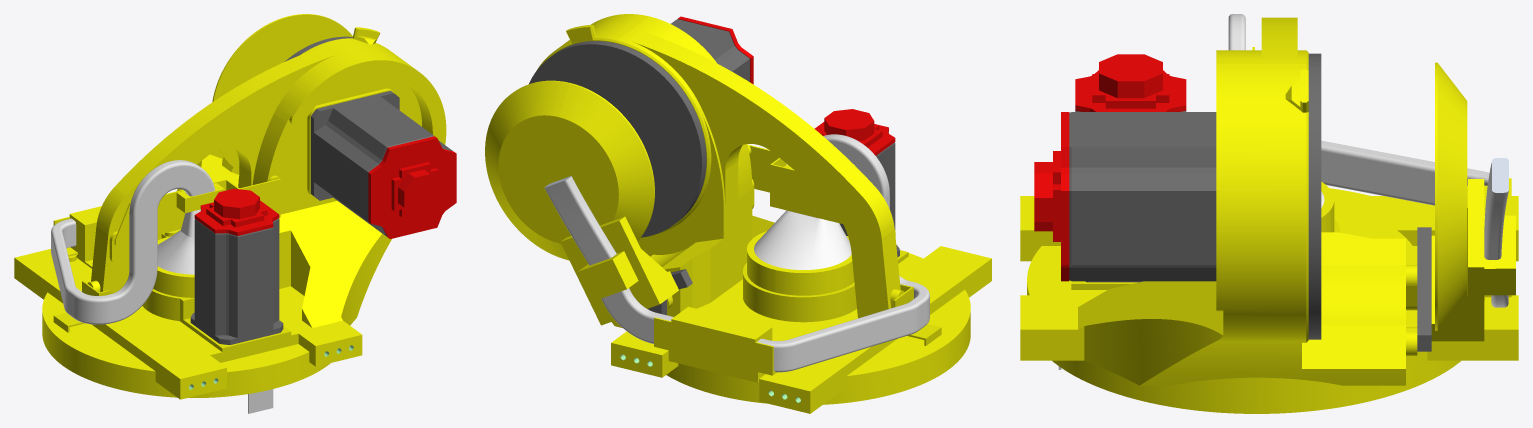
3 views of the same model, side by side, from view 1: azimuth 30°, elevation 25°; view 2: azimuth 150°, elevation 25°; view 3: azimuth 270°, elevation 25° (orthographic). The views are drawn at different scales.
Visible parts, largest first — view 1: Mesh_0; view 2: Mesh_0; view 3: Mesh_0.
Part boxes in pixels (x1,y1,x2,y2): Mesh_0: (14, 14, 456, 413); Mesh_0: (485, 14, 991, 413); Mesh_0: (1020, 14, 1518, 413).
Size of the model in its own units: 0.7524 by 0.584 by 0.5436.
